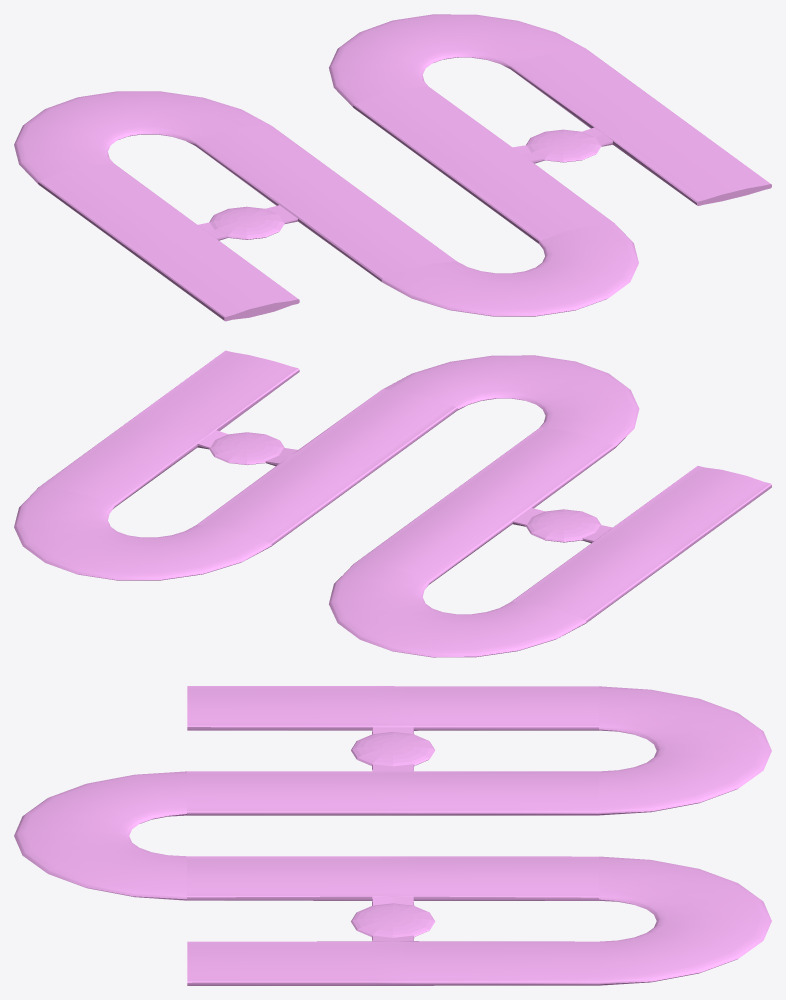
The model's file is Platform_3.fbx.
The picture shows the model from 3 angles, top to bottom: view 1: azimuth 30°, elevation 25°; view 2: azimuth 150°, elevation 25°; view 3: azimuth 270°, elevation 25°; orthographic projection. The views are drawn at different scales.
Parts seen in each view (by area): view 1: Platform_3; view 2: Platform_3; view 3: Platform_3.
Part boxes in pixels (x1,y1,x2,y2): Platform_3: [14, 14, 771, 321]; Platform_3: [14, 350, 771, 657]; Platform_3: [14, 686, 771, 985].
Bounding box in the file's own units: 25.57 × 0.5298 × 27.61.
